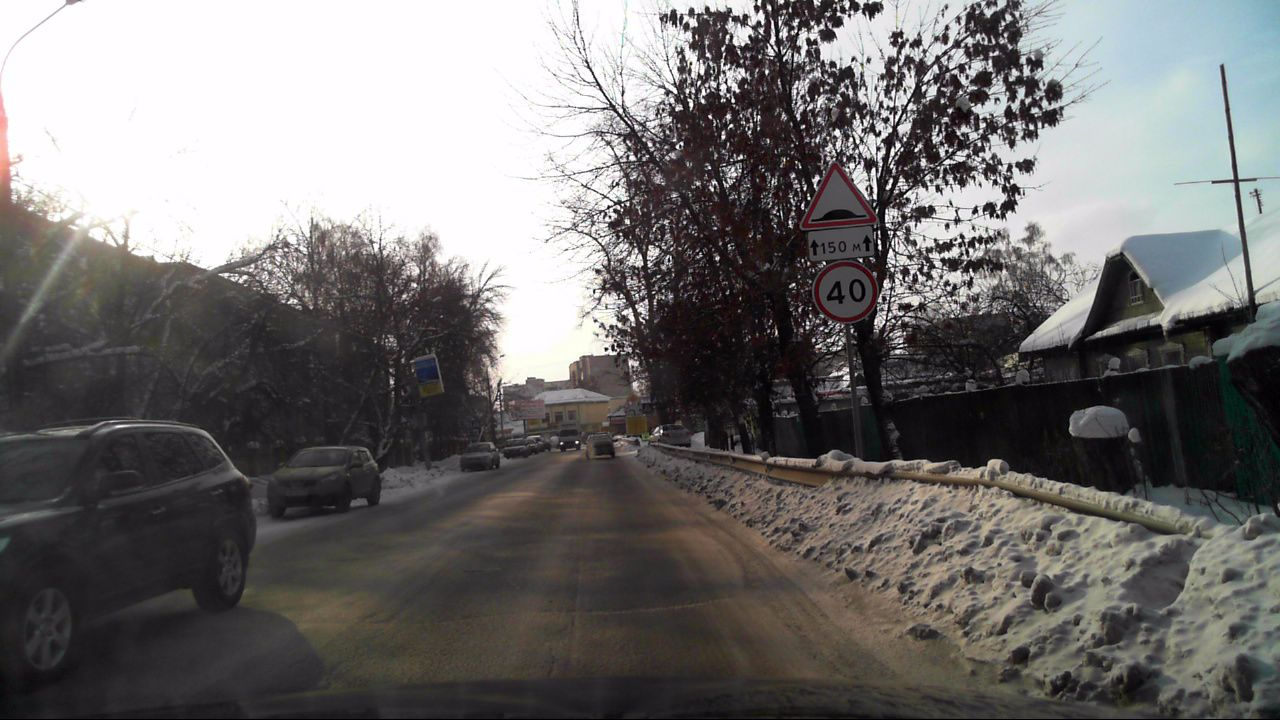speed_warning_40: (812, 264, 879, 323)
